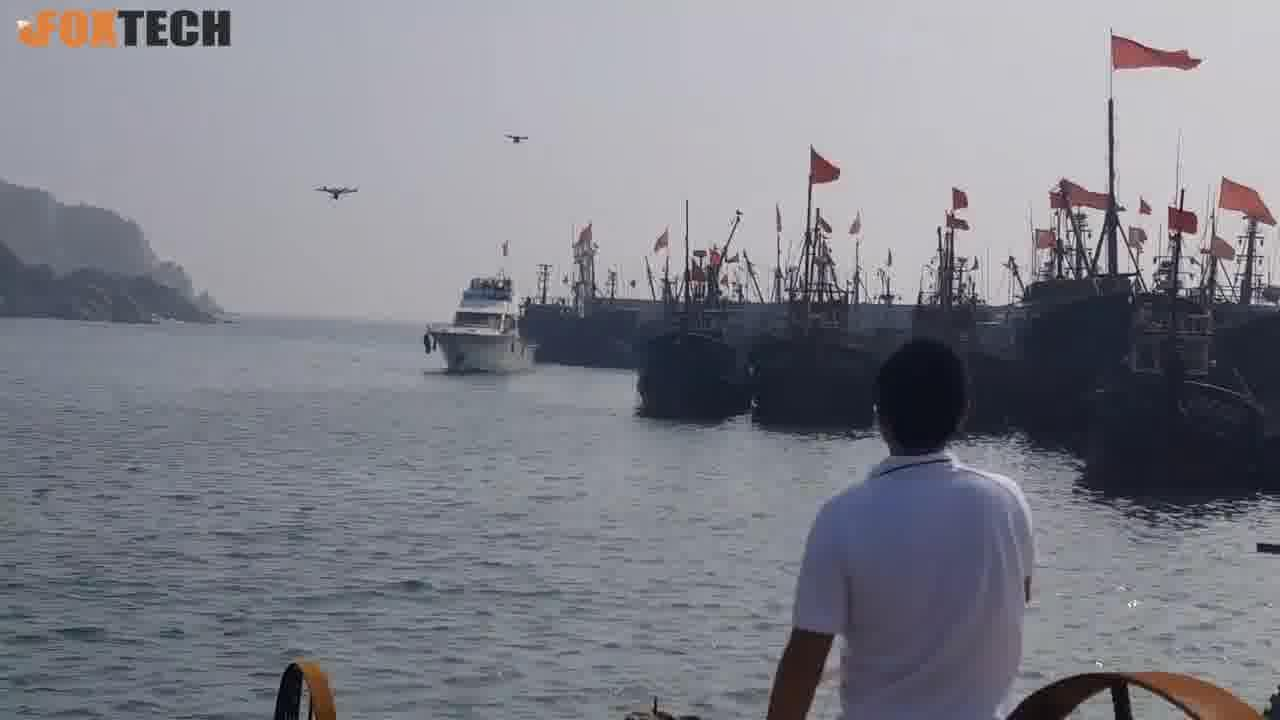drone: (307, 177, 360, 205), (500, 127, 535, 148)
